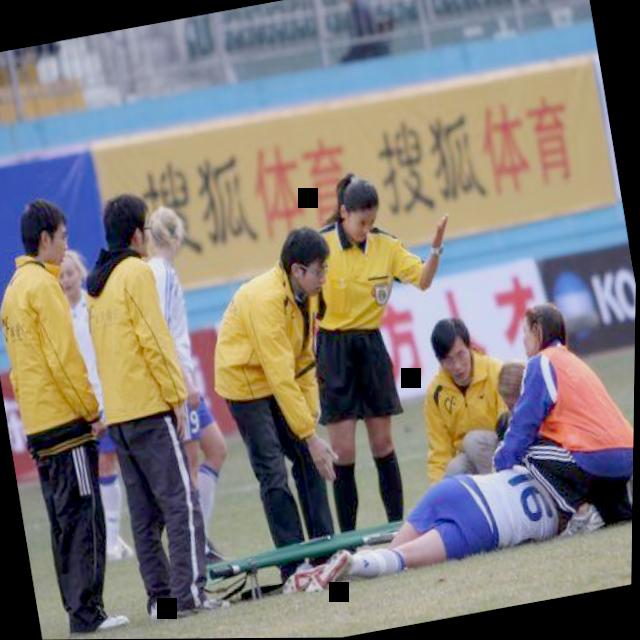Fall-Detected: (297, 430, 611, 592)
